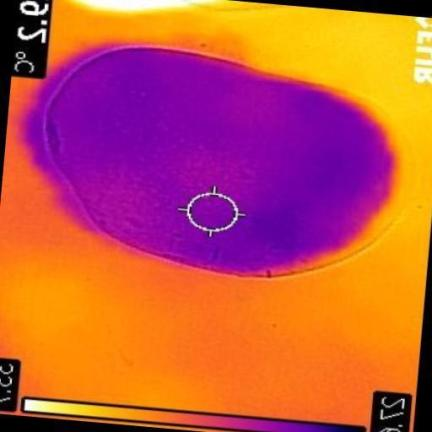mango: (46, 48, 409, 278)
